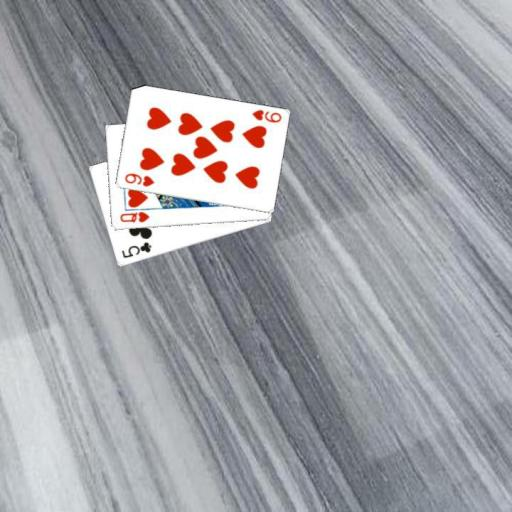5C: (118, 239, 153, 259)
9H: (121, 170, 155, 188), (249, 107, 282, 125)
QH: (117, 208, 151, 224)
